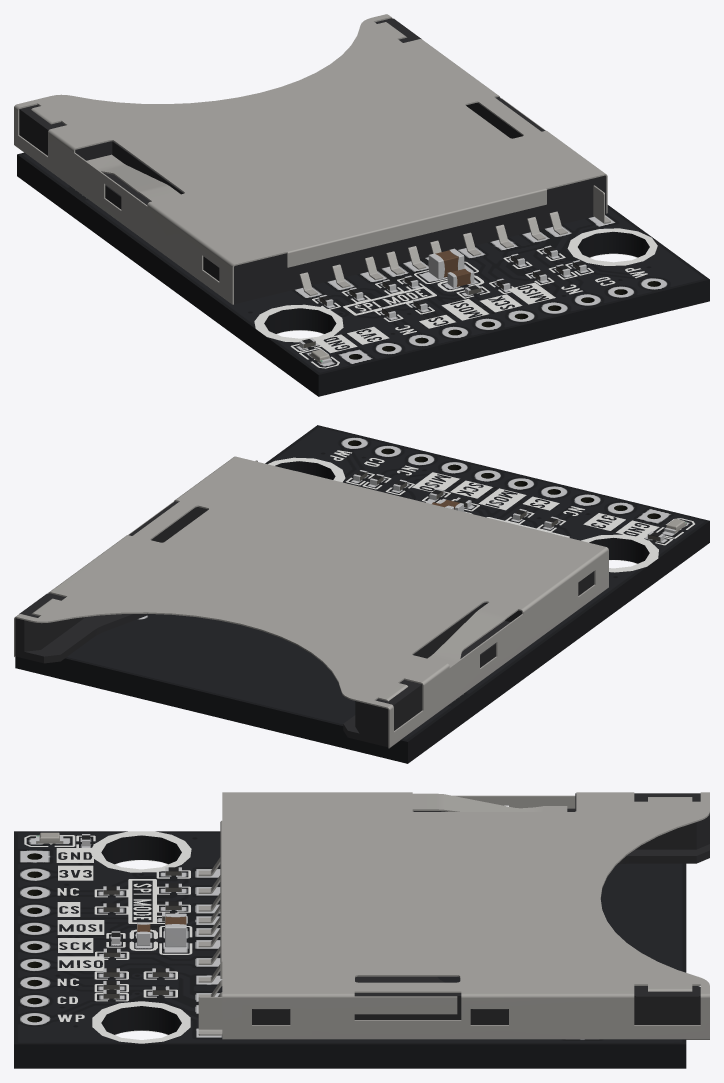
3 renders of one model, top to bottom at view 1: azimuth 30°, elevation 25°; view 2: azimuth 150°, elevation 25°; view 3: azimuth 270°, elevation 25°, orthographic. The views are drawn at different scales.
Visible parts, largest first — view 1: sd_2026-09-16_lin, sd_2026-09-16_lin.001; view 2: sd_2026-09-16_lin, sd_2026-09-16_lin.001; view 3: sd_2026-09-16_lin, sd_2026-09-16_lin.001.
Boxes of the visible parts, left/top/right/bottom form: sd_2026-09-16_lin: left=14, top=14, right=709, bottom=396; sd_2026-09-16_lin.001: left=17, top=152, right=709, bottom=374; sd_2026-09-16_lin: left=14, top=440, right=709, bottom=763; sd_2026-09-16_lin.001: left=65, top=425, right=709, bottom=741; sd_2026-09-16_lin: left=14, top=792, right=709, bottom=1068; sd_2026-09-16_lin.001: left=14, top=831, right=686, bottom=1044.
Size of the model in its own units: 29.97 by 4.52 by 41.38.
14 materials, 2 textured.
